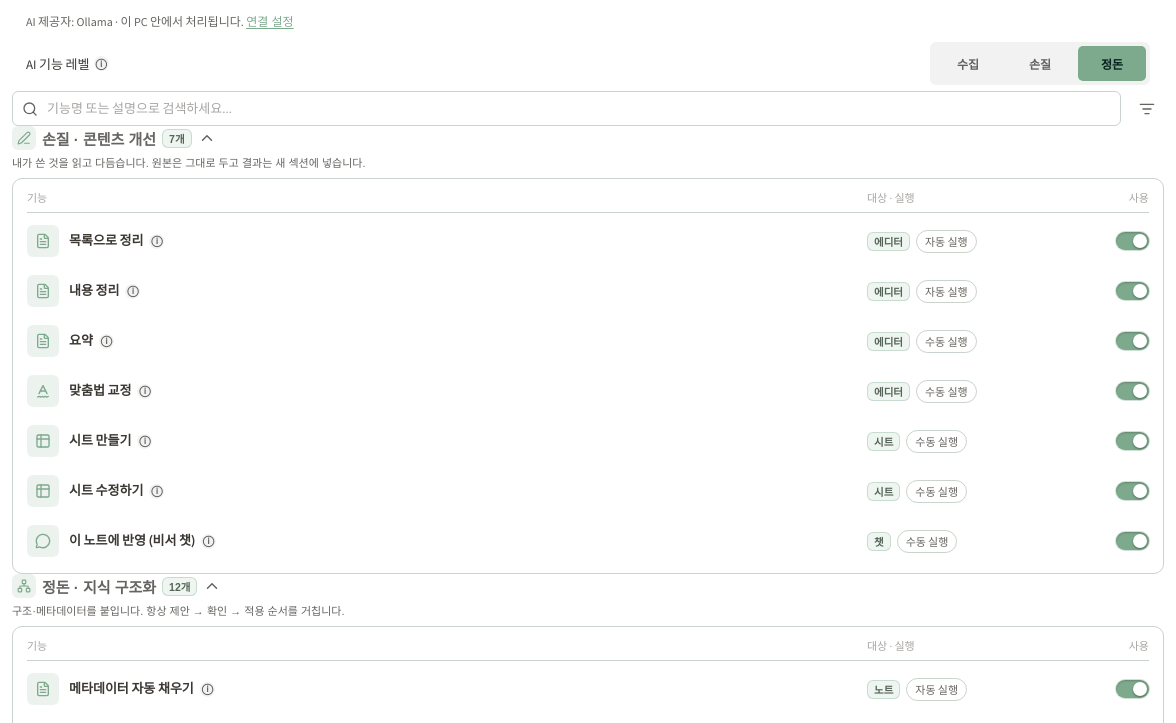
Test: AiCapabilityCatalog — 현대적 AI 관리 센터 UI & 상호작용 › 아코디언 카드가 기본적으로 펼쳐져 있고 헤더 클릭으로 접고 펼 수 있다
Expected: the element with test id "ai-capability-row-list" is shown, 27,219 -> 1149,263
// 헤더 클릭으로 토글
Click the button with test id "ai-capability-tier-header-refine" at (99, 139), box 12,126 -> 1164,170
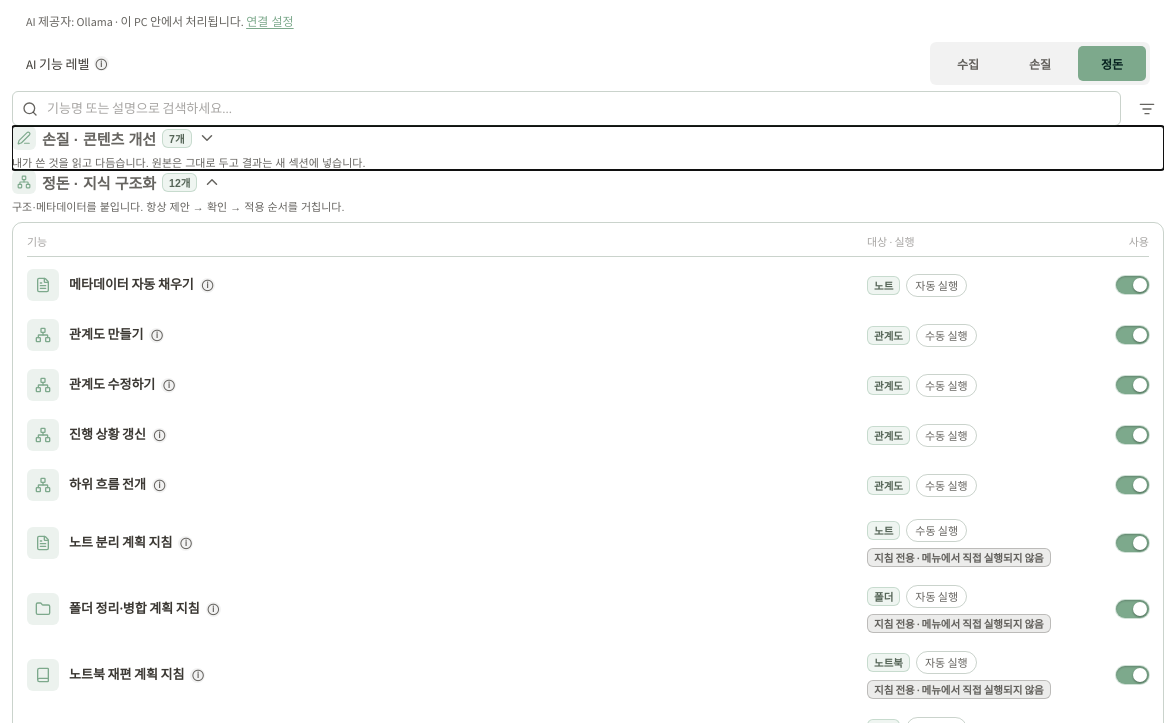
Now the button with test id "ai-capability-tier-header-refine" is collapsed
// 다시 클릭하여 펼침
Click the button with test id "ai-capability-tier-header-refine" at (99, 139), box 12,126 -> 1164,170
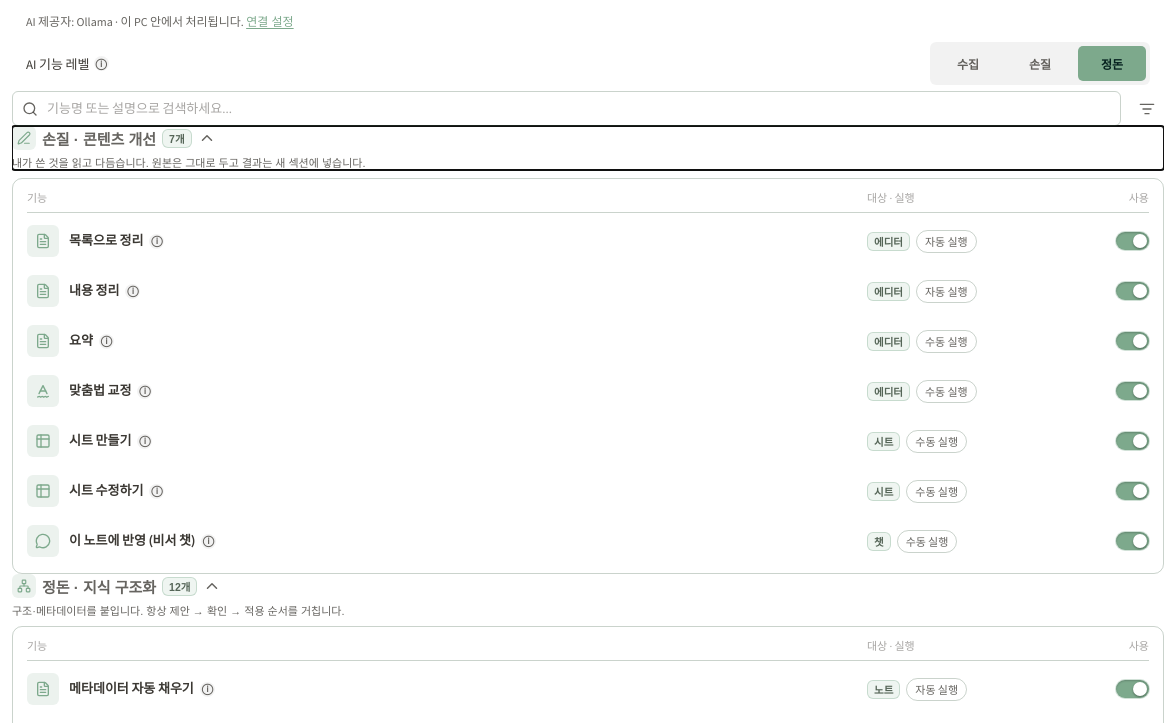
Now the button with test id "ai-capability-tier-header-refine" is expanded, box 12,126 -> 1164,170
